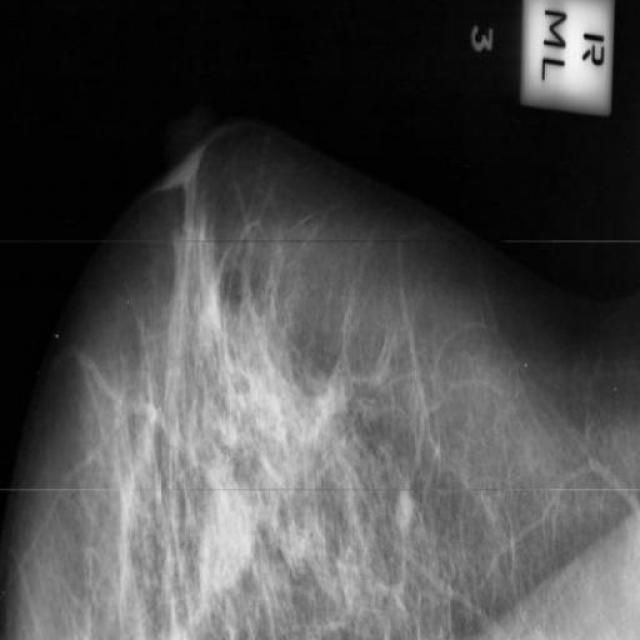cancer: (190, 460, 266, 600)
